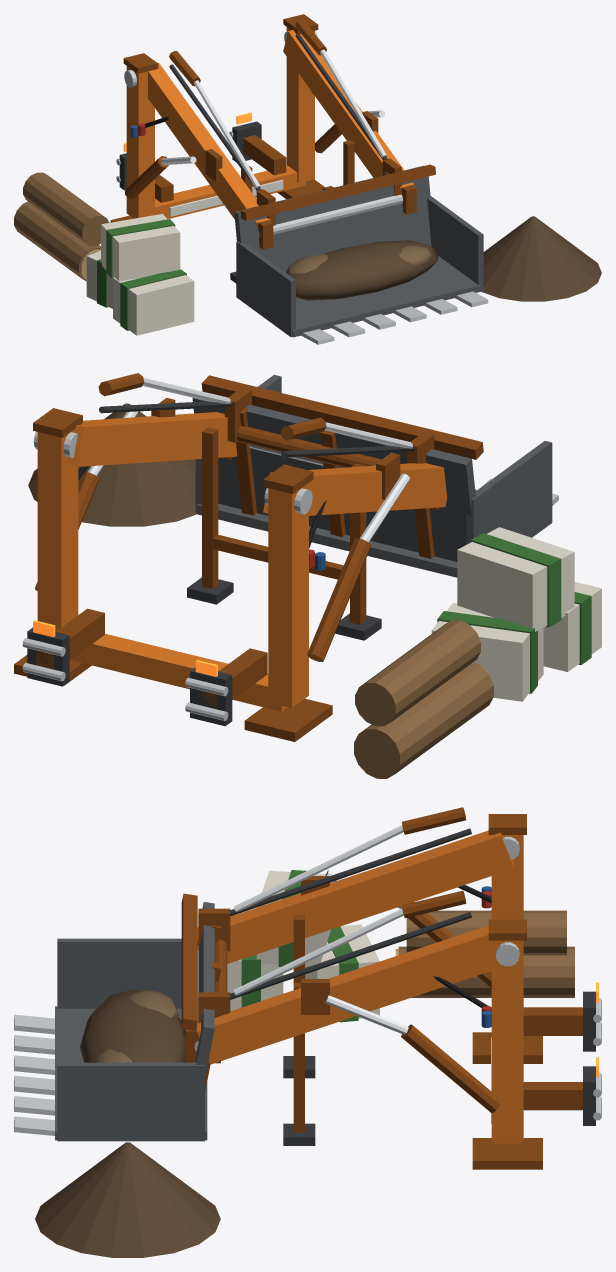
The model's file is front_loader_v2.glb.
3 renders of one model, top to bottom at view 1: azimuth 30°, elevation 25°; view 2: azimuth 150°, elevation 25°; view 3: azimuth 270°, elevation 25°, orthographic. The views are drawn at different scales.
Parts seen in each view (by area): view 1: LoaderBucket, LoadProps, LoaderFrame, LoaderArm; view 2: LoaderFrame, LoadProps, LoaderBucket, LoaderArm; view 3: LoaderBucket, LoaderArm, LoaderFrame, LoadProps.
Boxes of the visible parts, box(x1,y1,x2,y2) form: LoaderBucket: box(234, 164, 488, 344); LoadProps: box(14, 172, 601, 335); LoaderFrame: box(110, 14, 384, 283); LoaderArm: box(124, 20, 414, 226); LoaderFrame: box(14, 408, 409, 741); LoadProps: box(28, 403, 601, 778); LoaderBucket: box(192, 374, 558, 577); LoaderArm: box(33, 373, 447, 515); LoaderBucket: box(14, 893, 221, 1141); LoaderArm: box(197, 807, 519, 1064); LoaderFrame: box(283, 814, 601, 1169); LoadProps: box(35, 870, 574, 1257).
Bounding box in the file's own units: 4.12 × 1.76 × 3.67.
